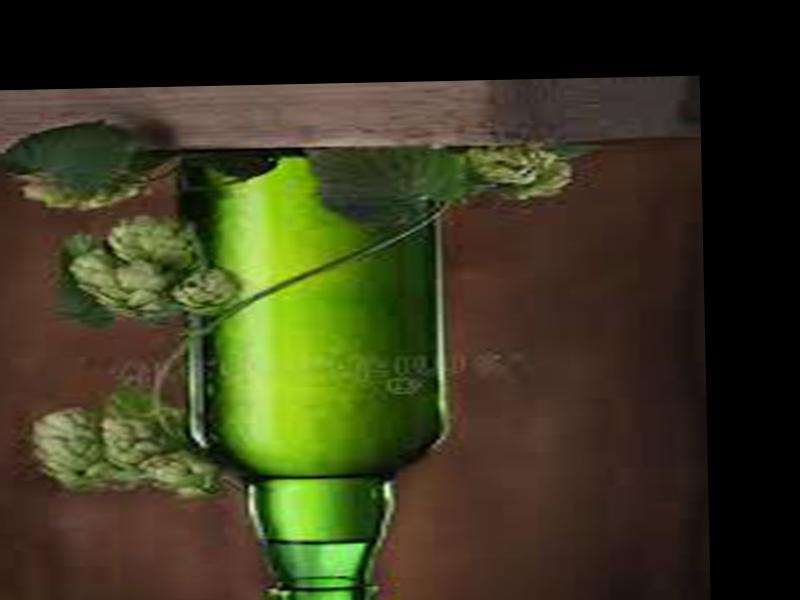Beer: (189, 137, 453, 600)
